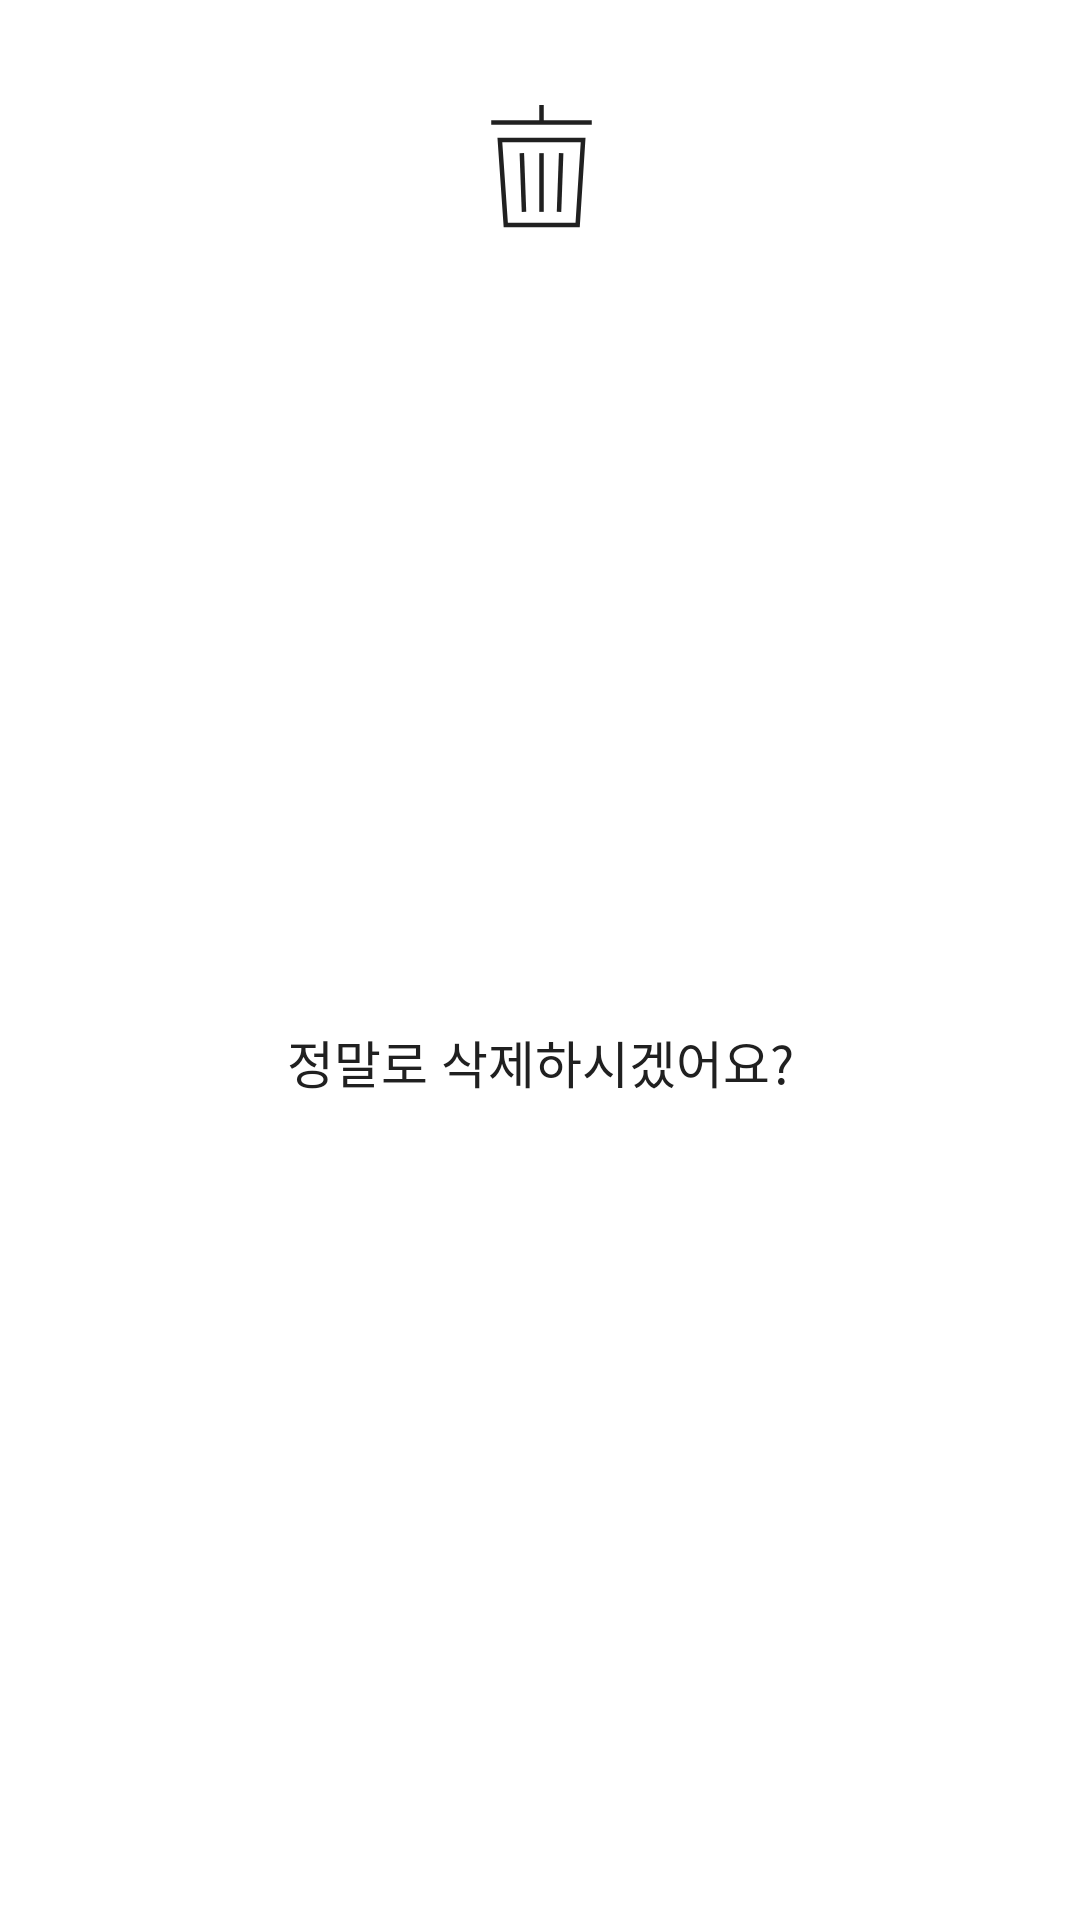

Where to tap for icons on this 1080 × 1920 app screen, as [x,y]:
delete: [541,166]
